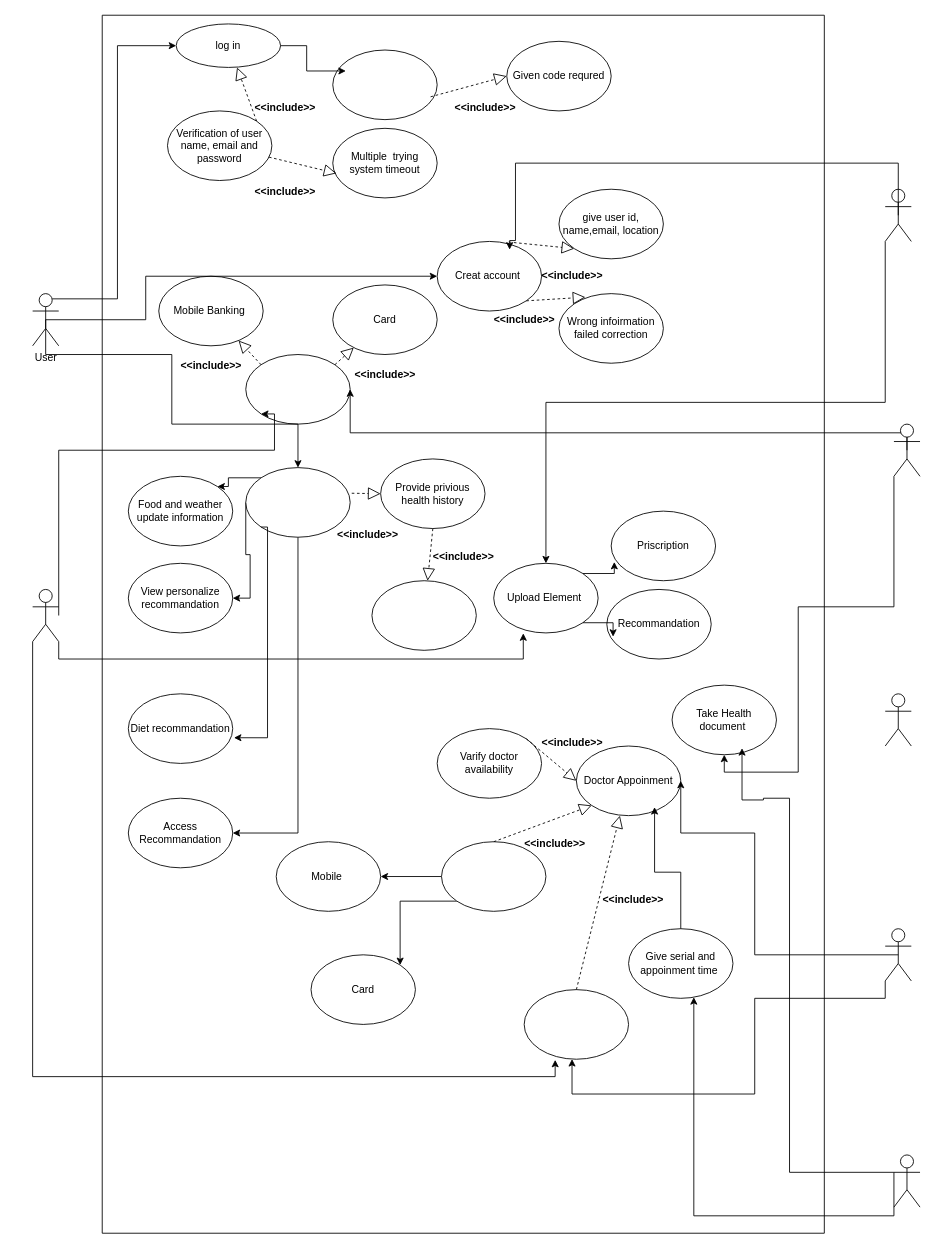
This 946x1248 diagram has some shape labels left out. Each missing label, with the centre of its shape:
"Admin" goes at (x=906, y=449).
"Booking Clark" goes at (x=897, y=954).
"Doctor" goes at (x=906, y=1180).
"Informed doctor name and doctor type" goes at (x=576, y=1024).
"Location and health condition" goes at (x=423, y=615).
"Office Clark" goes at (x=897, y=719).
"Payment" goes at (x=493, y=876).
"Regular User" goes at (x=45, y=615).
"Reset password by giving email,mobile number" goes at (x=384, y=84).
"System" goes at (x=897, y=214).
"Take membership by payment" goes at (x=297, y=389).
"Take personal information" goes at (x=297, y=502).
